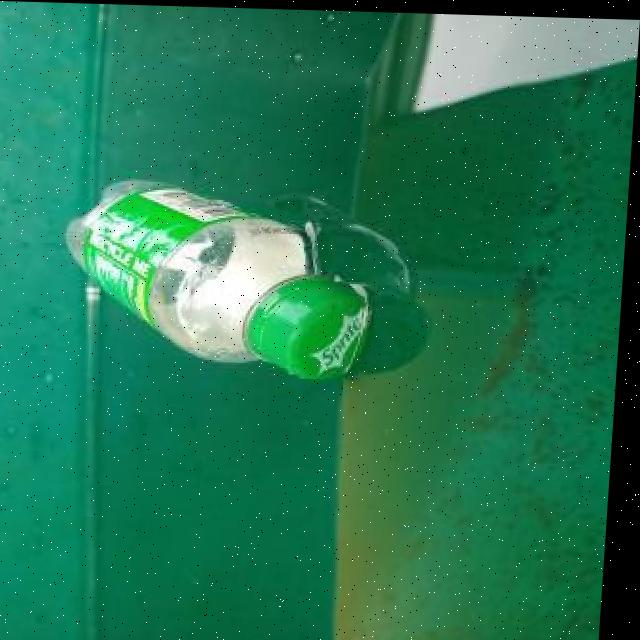bottle: (53, 169, 388, 384)
